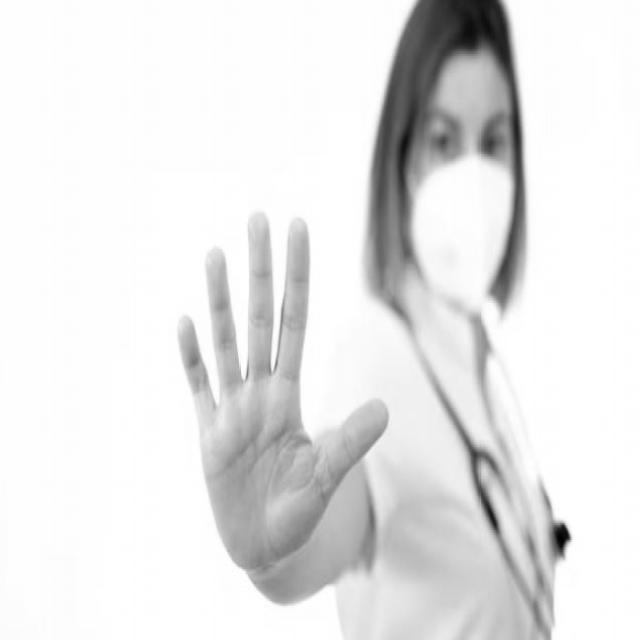stop: (172, 200, 393, 579)
